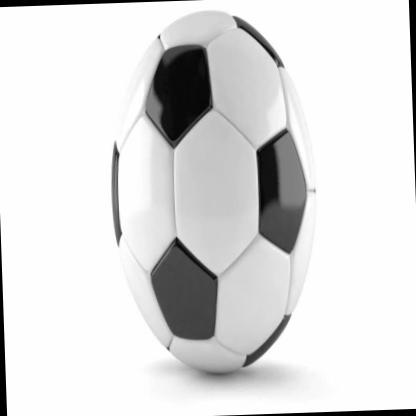ball: (89, 0, 338, 416)
